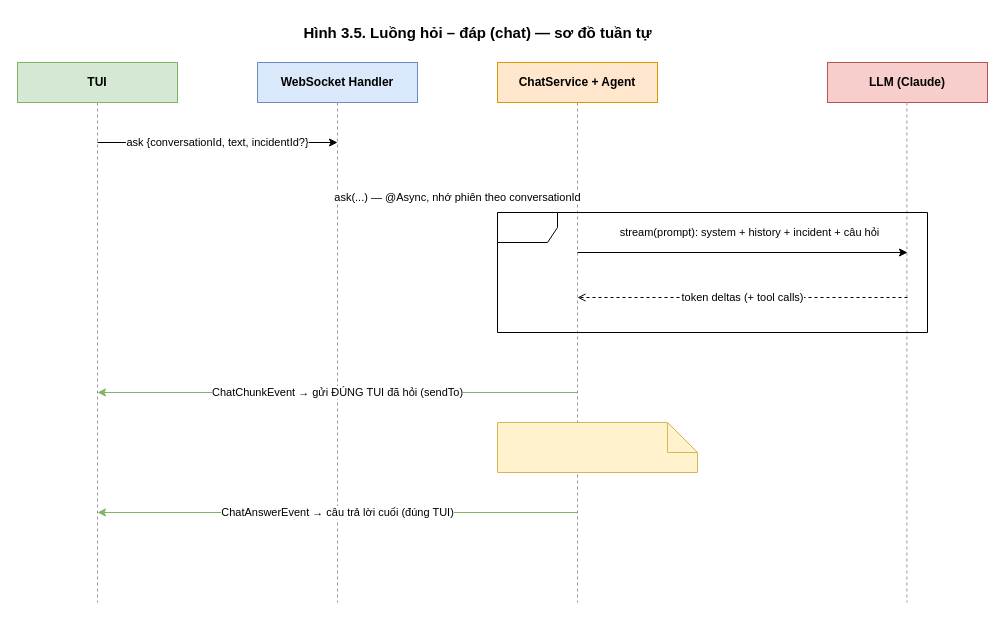
Image size: 1005x621. Some labels were removed from this diagram. The centre of each missing label's shape, as x and y in pixels:
Loop: the point at 712,272
store.append(user, assistant) → nhớ ngữ cảnh đa lượt: the point at 597,447
